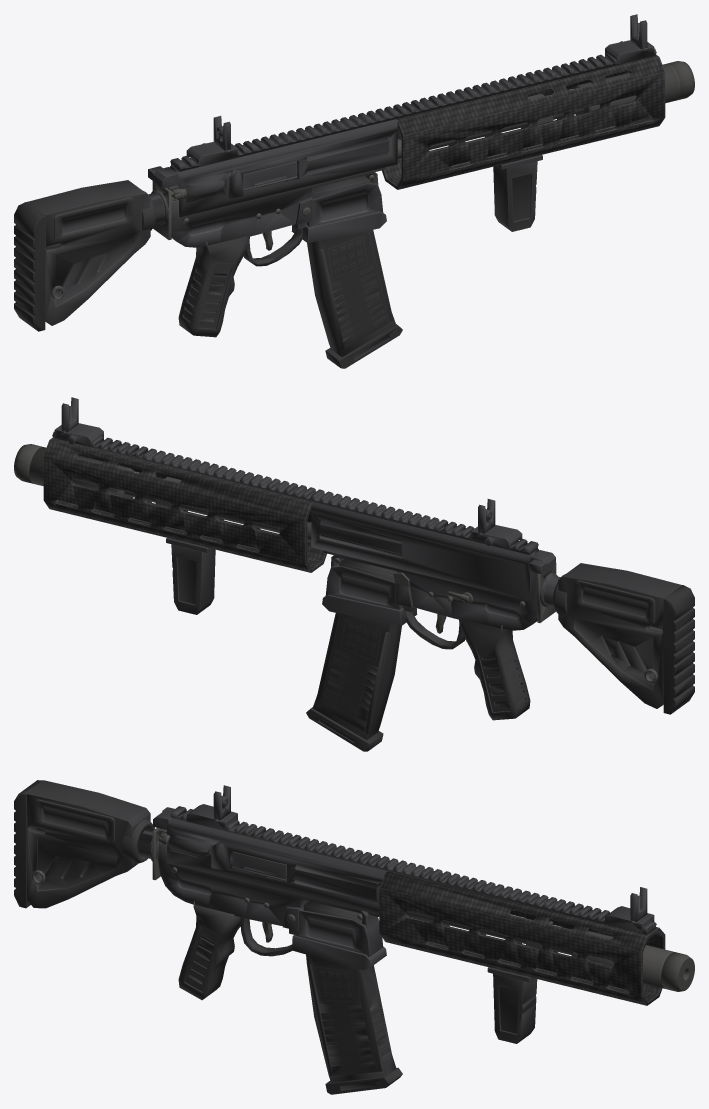
File: weapon_m4.glb
3 renders of one model, top to bottom at view 1: azimuth 30°, elevation 25°; view 2: azimuth 150°, elevation 25°; view 3: azimuth 330°, elevation 25°, orthographic.
Visible parts, largest first — view 1: handguard, stock, receiver_upper, receiver_lower, magazine, rail_top, grip, butt_pad, vertical_grip, muzzle_can, dust_cover, mag_floorplate (+4 smaller); view 2: handguard, stock, receiver_upper, receiver_lower, magazine, rail_top, grip, butt_pad, vertical_grip, muzzle_can, mag_floorplate, sight_rear (+3 smaller); view 3: handguard, stock, receiver_lower, receiver_upper, magazine, rail_top, grip, vertical_grip, muzzle_can, butt_pad, dust_cover, mag_floorplate (+6 smaller).
Boxes of the visible parts, box(x1,y1,x2,y2) form: handguard: box(382, 54, 665, 189); stock: box(27, 180, 155, 325); receiver_upper: box(169, 119, 397, 217); receiver_lower: box(167, 167, 386, 247); magazine: box(307, 175, 396, 357); rail_top: box(170, 48, 656, 171); grip: box(178, 236, 247, 337); butt_pad: box(14, 202, 45, 331); vertical_grip: box(493, 161, 537, 231); muzzle_can: box(574, 61, 694, 114); dust_cover: box(242, 161, 297, 191); mag_floorplate: box(325, 324, 402, 368); handguard: box(43, 437, 326, 572); stock: box(553, 563, 681, 708); receiver_upper: box(311, 502, 539, 600); receiver_lower: box(322, 550, 537, 630); magazine: box(312, 558, 401, 740); rail_top: box(52, 431, 538, 554); grip: box(461, 619, 530, 720); butt_pad: box(663, 585, 694, 714); vertical_grip: box(171, 544, 215, 614); muzzle_can: box(14, 444, 134, 497); mag_floorplate: box(306, 707, 383, 751); sight_rear: box(471, 525, 522, 549); handguard: box(379, 871, 665, 1005); stock: box(26, 780, 154, 908); receiver_lower: box(158, 829, 386, 970); receiver_upper: box(167, 819, 386, 914); magazine: box(303, 901, 396, 1082); rail_top: box(170, 806, 656, 934); grip: box(178, 901, 240, 1000); vertical_grip: box(493, 973, 537, 1043); muzzle_can: box(571, 931, 694, 991); butt_pad: box(14, 780, 44, 908); dust_cover: box(232, 851, 286, 881); mag_floorplate: box(325, 1067, 402, 1094).
Size of the model in its own units: 0.7515 by 0.2952 by 0.047.
1 material, 1 textured.
